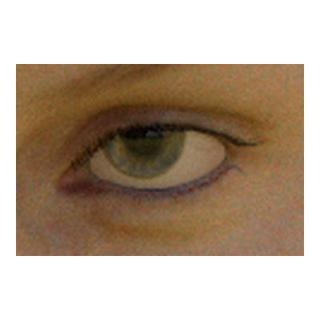pupil: (124, 116, 162, 154)
